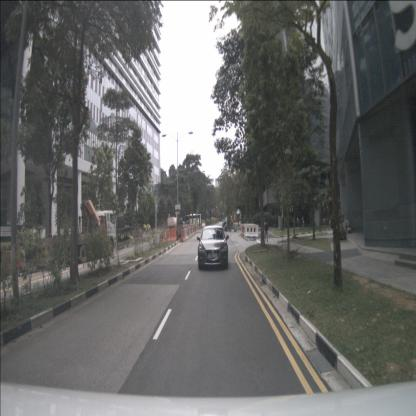barrier: (244, 224, 258, 238), (166, 228, 177, 242), (162, 228, 167, 243), (180, 229, 186, 241), (184, 228, 188, 240), (185, 228, 189, 239), (189, 227, 193, 236), (189, 227, 192, 237), (191, 226, 194, 236), (187, 228, 190, 238), (193, 225, 195, 235)
